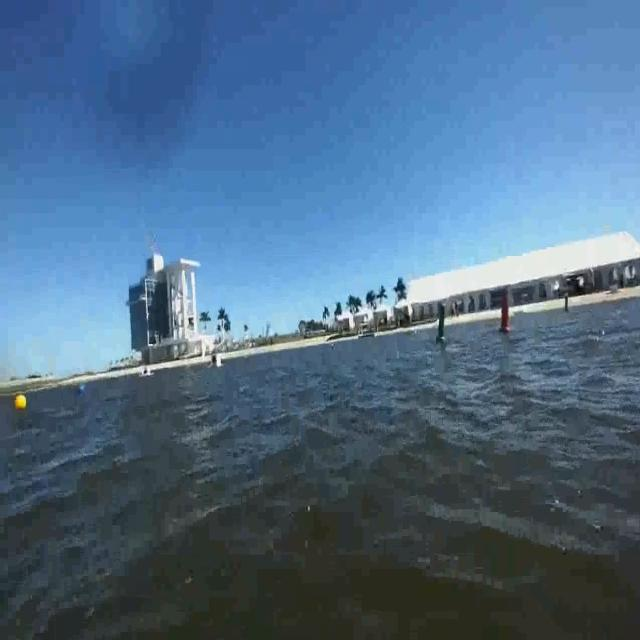yellow-buoy: (14, 395, 26, 413)
